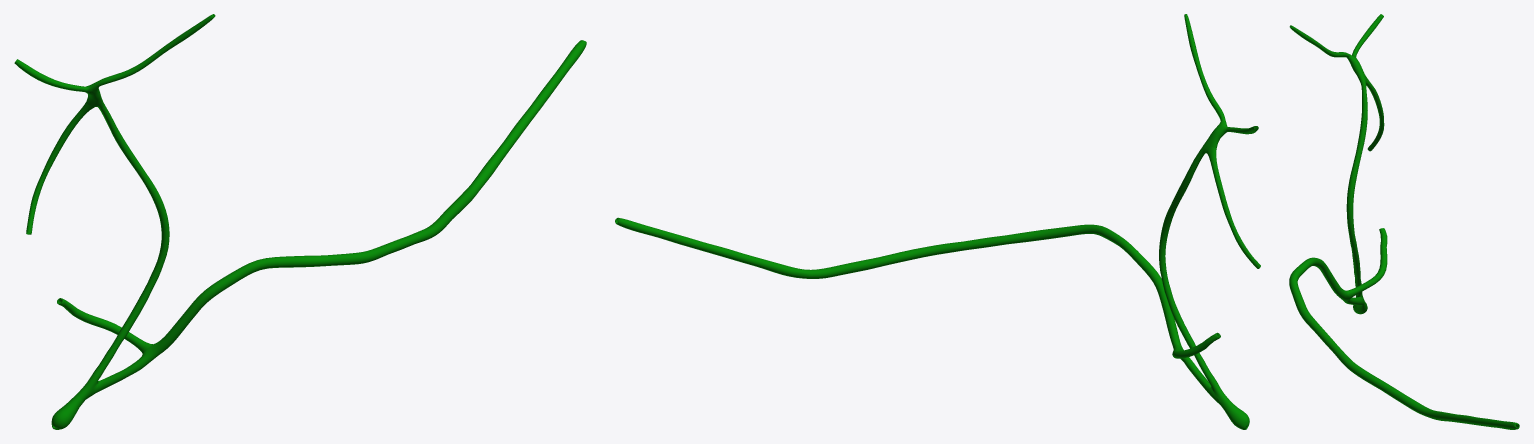
The model's file is biliary.glb.
3 views of the same model, side by side, from view 1: azimuth 30°, elevation 25°; view 2: azimuth 150°, elevation 25°; view 3: azimuth 270°, elevation 25° (orthographic). The views are drawn at different scales.
Parts seen in each view (by area): view 1: VH_F_right_hepatic_duct; view 2: VH_F_right_hepatic_duct; view 3: VH_F_right_hepatic_duct.
Part boxes in pixels (x1,y1,x2,y2): VH_F_right_hepatic_duct: (14,14,586,429); VH_F_right_hepatic_duct: (615,14,1260,429); VH_F_right_hepatic_duct: (1289,14,1519,429).
Size of the model in its own units: 0.1644 by 0.1005 by 0.0635.
